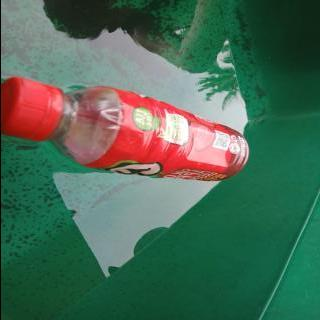bottle: (0, 76, 250, 182)
